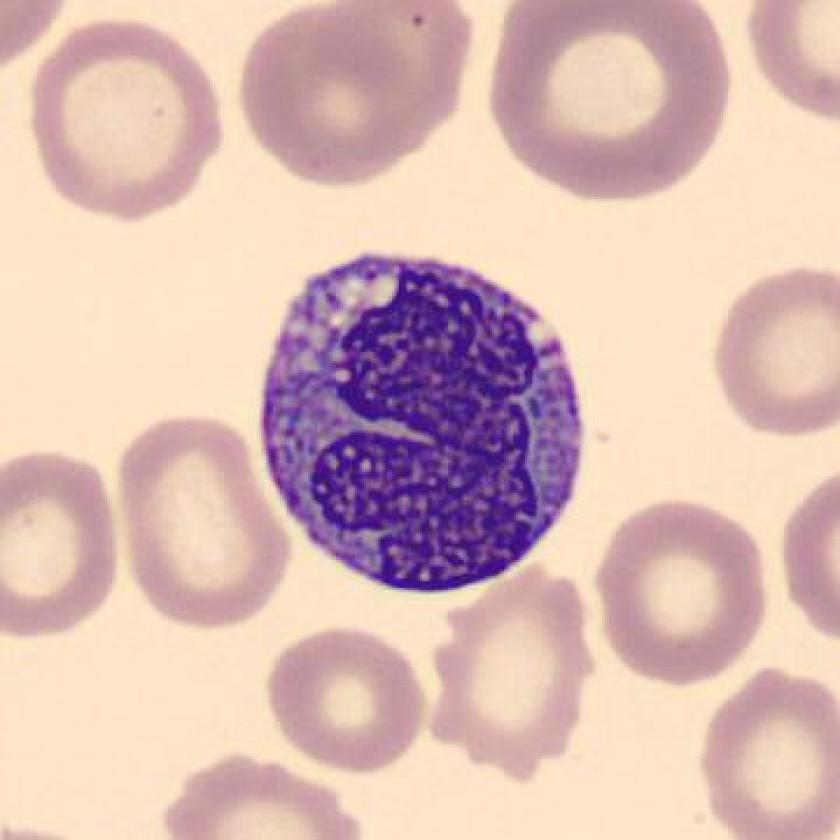monocyte: (246, 237, 608, 614)
